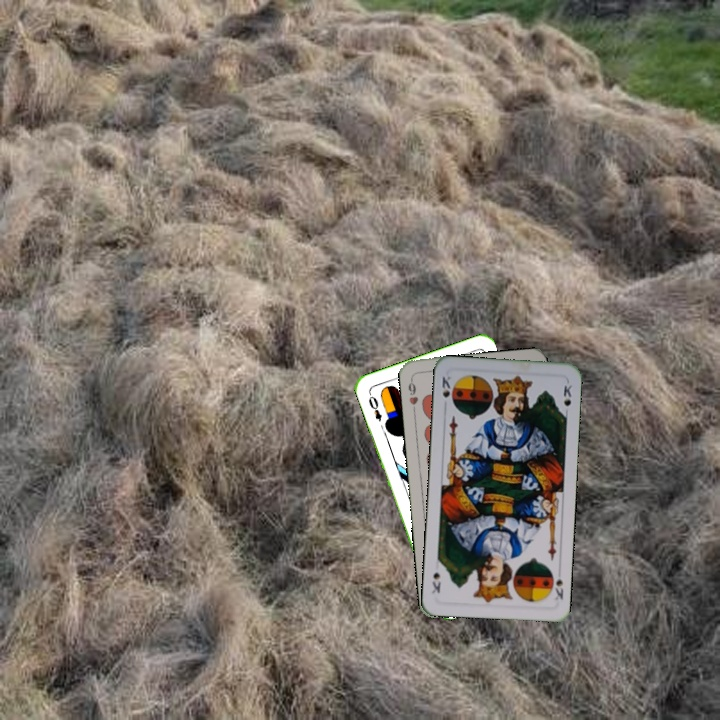EO: (364, 389, 384, 424)
H9: (404, 374, 421, 414)
SK: (550, 565, 566, 602), (438, 372, 454, 400)
